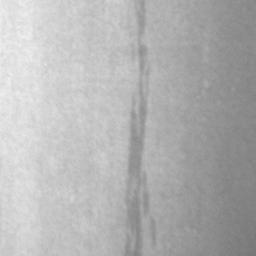Inclusion: (125, 0, 150, 256)
